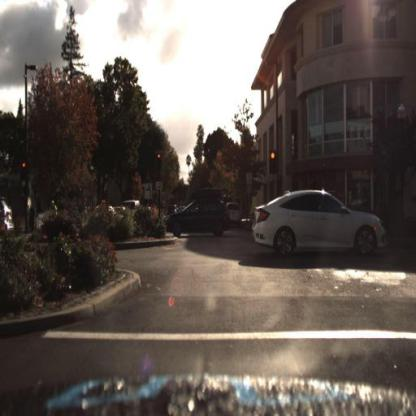biker: (45, 198, 62, 219), (48, 199, 58, 230)
car: (253, 189, 388, 258), (163, 188, 231, 237), (224, 201, 242, 228), (228, 201, 244, 229), (171, 205, 180, 217)
trafficLight: (21, 157, 29, 177)
trafficLight-Red: (155, 151, 163, 177), (269, 150, 277, 176), (156, 145, 163, 166)
